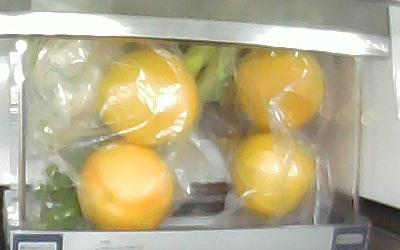grapefruit_vinyl: (95, 49, 198, 142), (76, 142, 174, 229), (234, 51, 325, 130), (233, 131, 316, 217)
